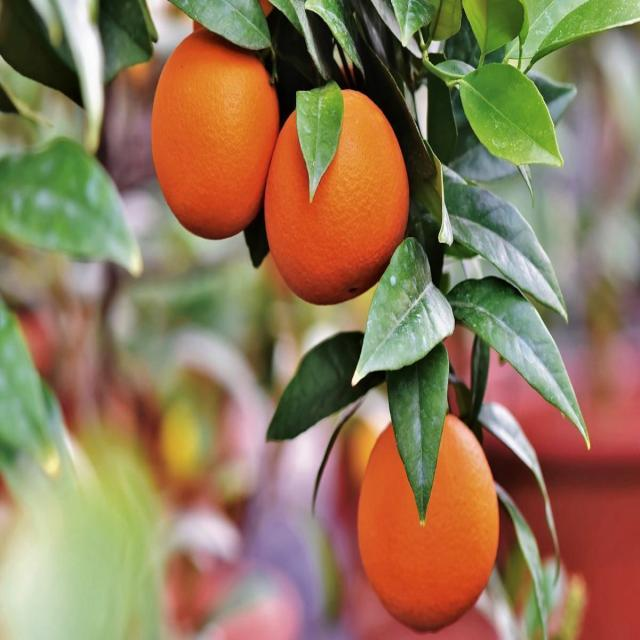Jeruk Sudah Matang: (264, 89, 410, 307), (357, 415, 500, 634), (150, 27, 282, 243)
